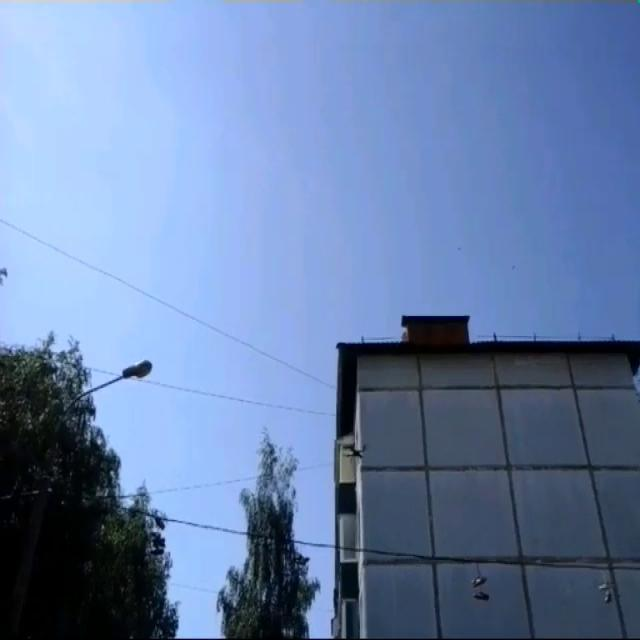Drons: (340, 442, 372, 464)
